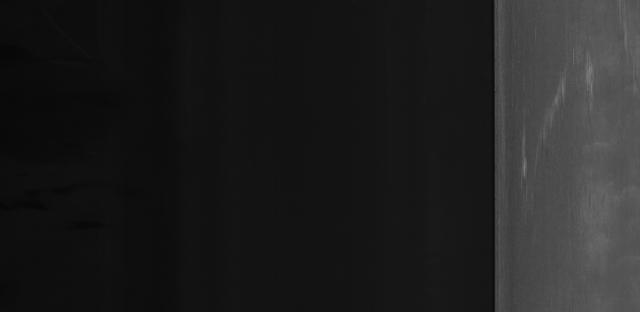silk_spot: (515, 39, 632, 207)
